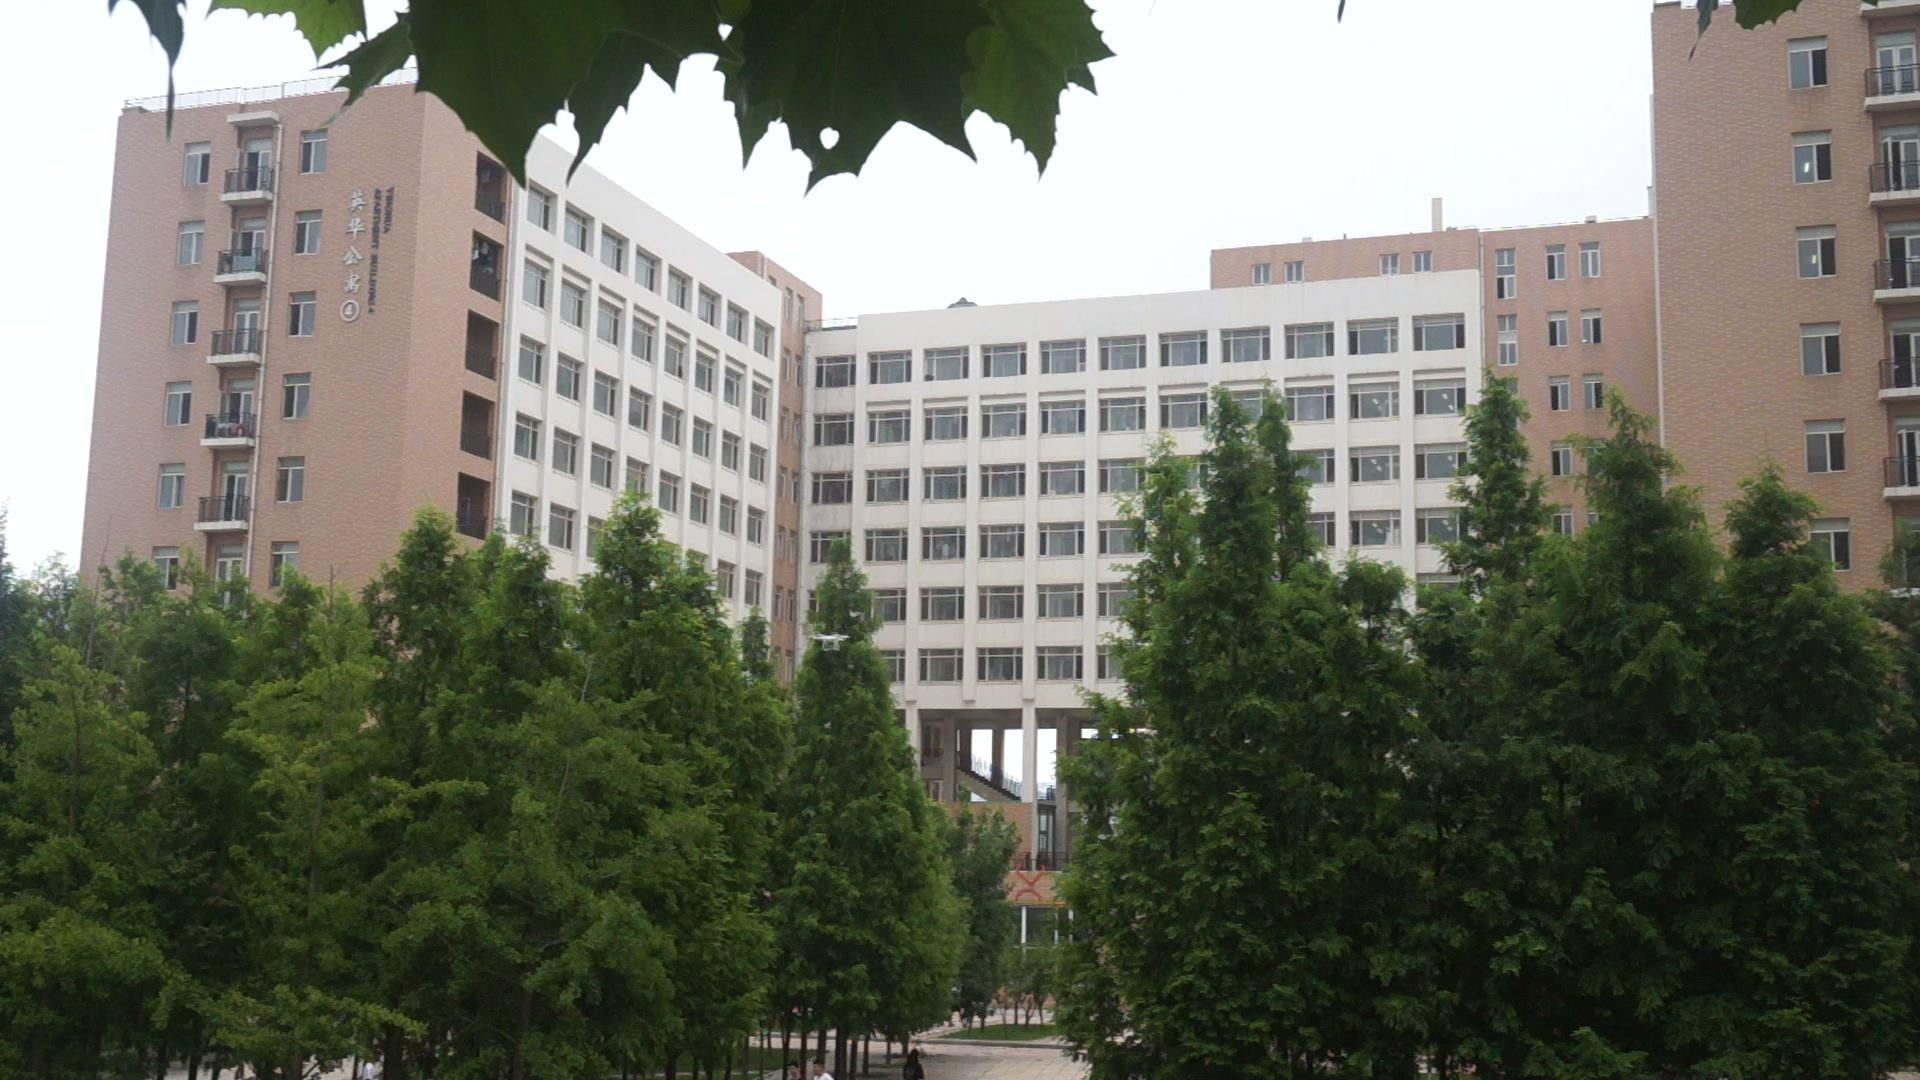UAV: (811, 634, 851, 651)
